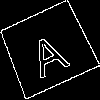A: (23, 24, 71, 79)
